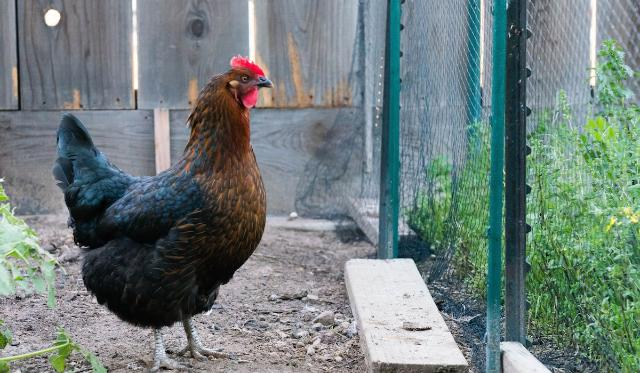Chicken: (54, 55, 275, 373)
